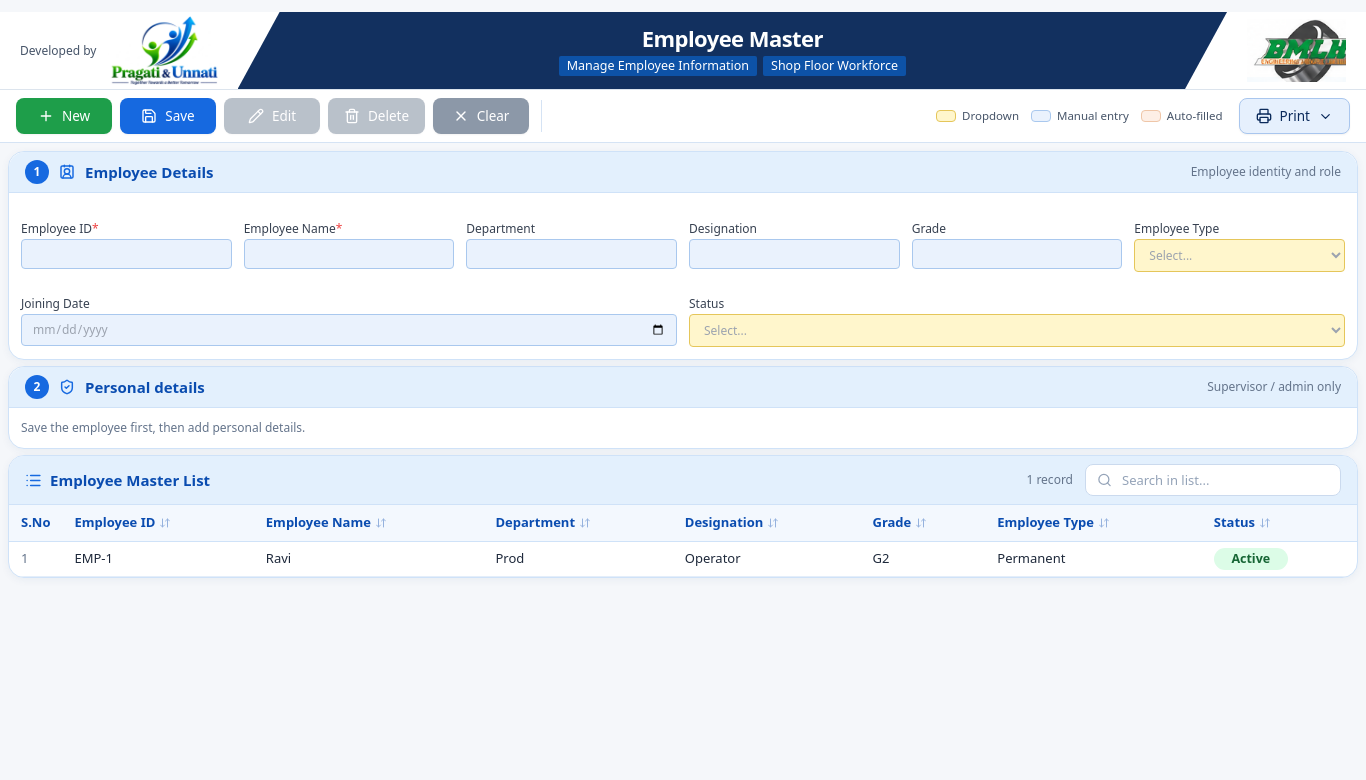
Scenario: Employee Master -- Personal details (059) › edit: Aadhaar input takes digits only (max 4); save = one upsert with cleaned values
The image size is (1366, 780).
Click the text "Ravi" at (279, 558), box x1=254 y1=541 x2=483 y2=577
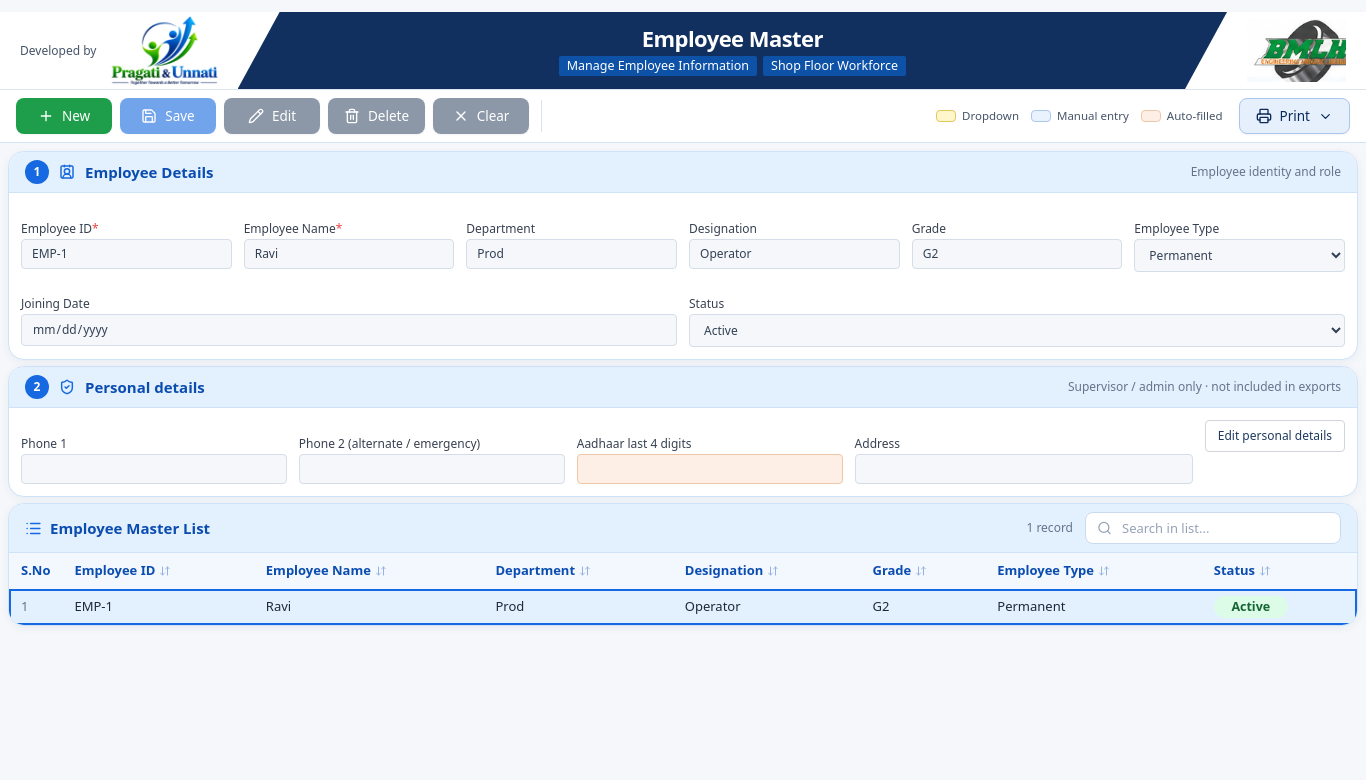
Click the button "Edit personal details" at (1275, 436), box x1=1205 y1=420 x2=1345 y2=452
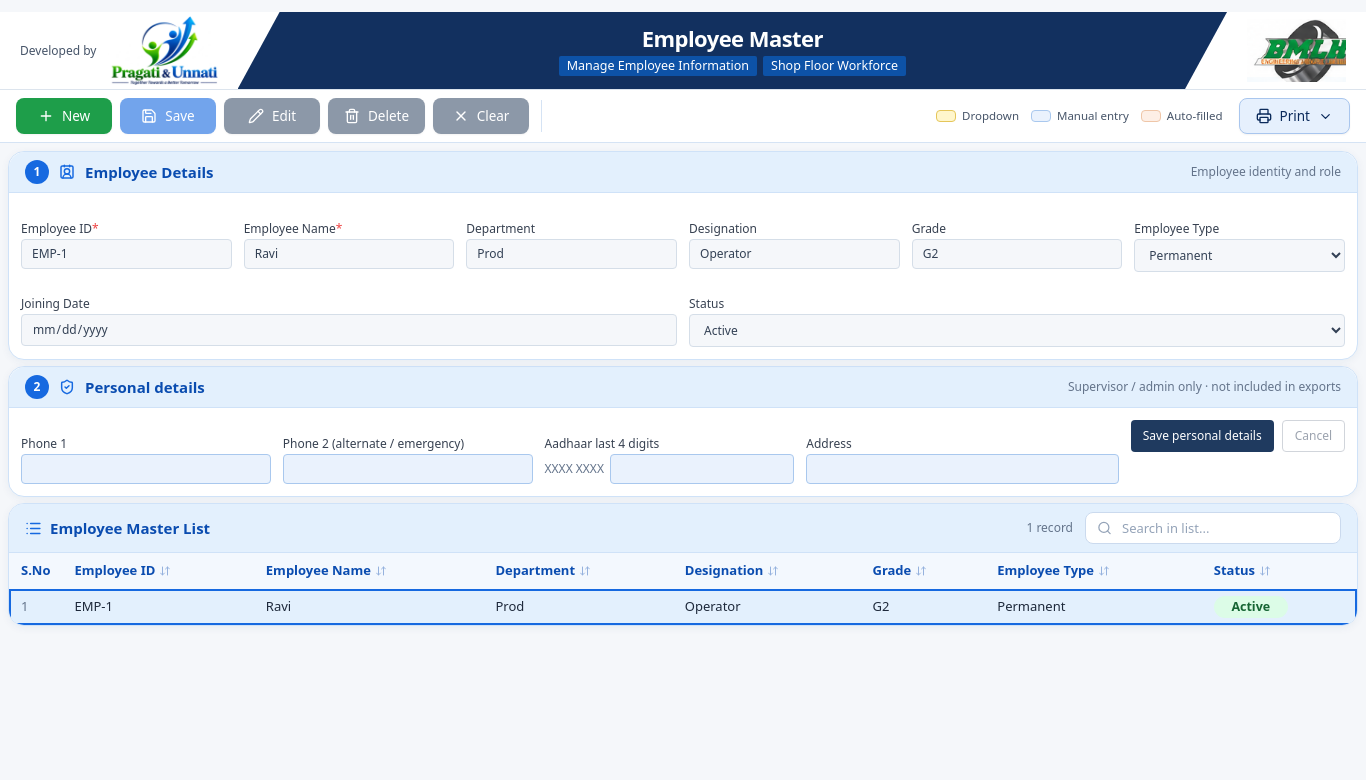
Now the text "XXXX XXXX" is shown, box x1=544 y1=461 x2=604 y2=477
Type "1a2b34567" into the field labelled "Aadhaar last 4" at (702, 469), box x1=610 y1=454 x2=794 y2=484
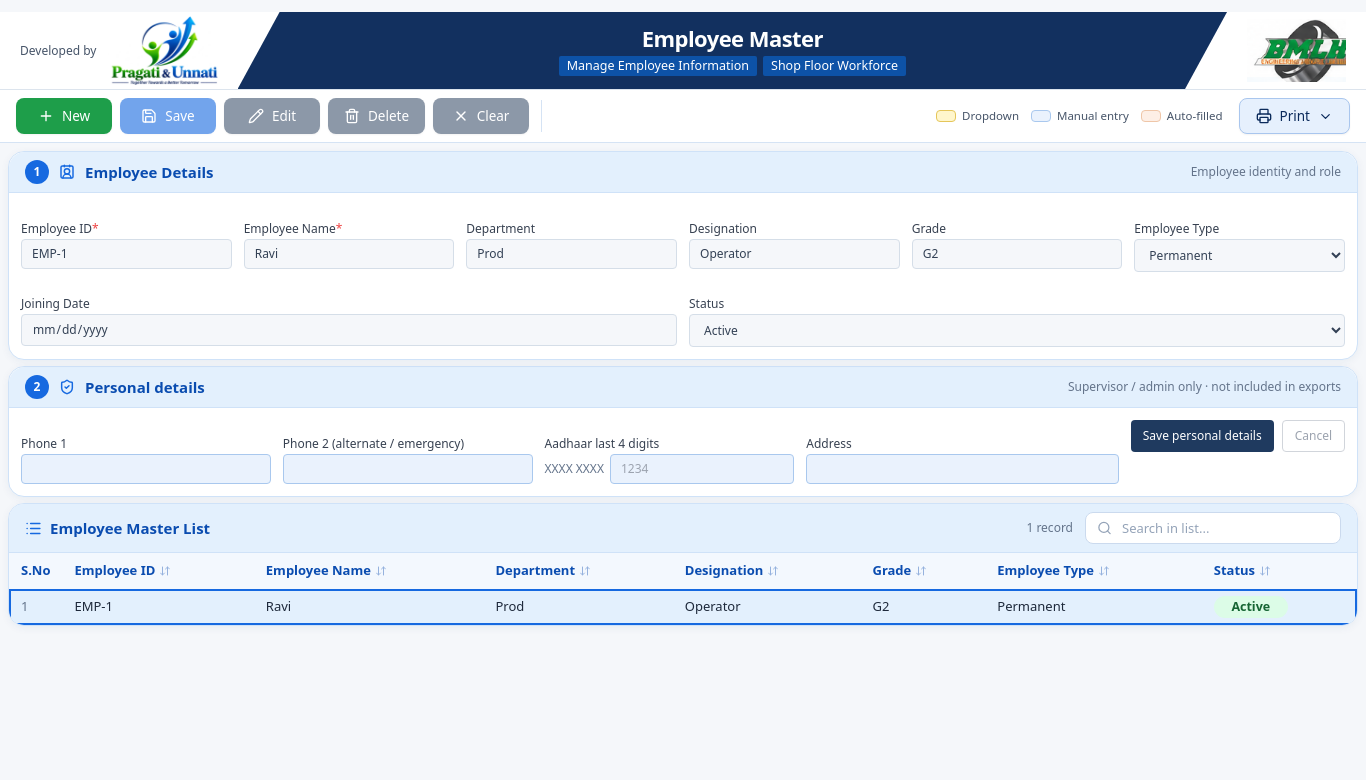
Now the field labelled "Aadhaar last 4" holds "1234", box x1=610 y1=454 x2=794 y2=484
Type "+91 98765-43210" into the field labelled "Phone 1" at (146, 469), box x1=21 y1=454 x2=271 y2=484
Type "080-2345 6789" into the field labelled "Phone 2" at (408, 469), box x1=283 y1=454 x2=533 y2=484
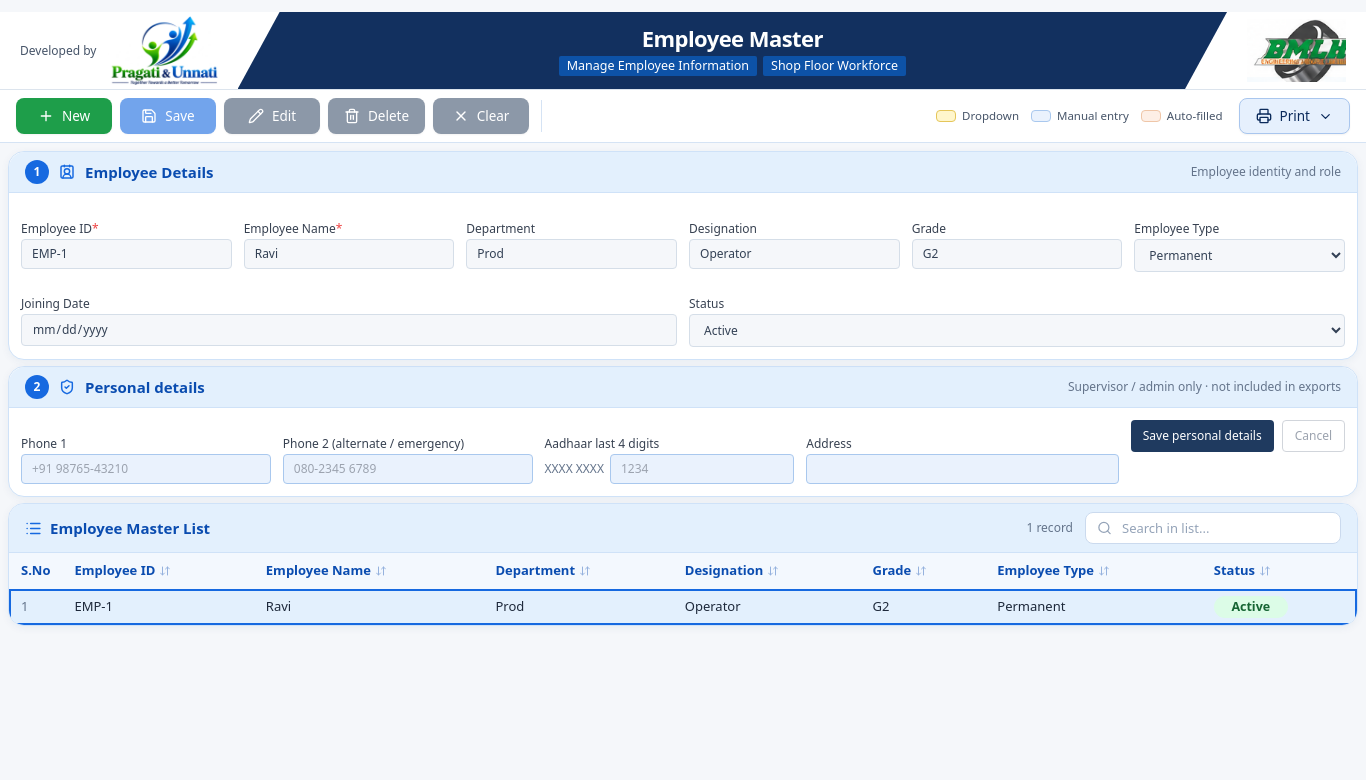
Type "  1 Main Rd " into the field labelled "Address" at (962, 469), box x1=806 y1=454 x2=1119 y2=484
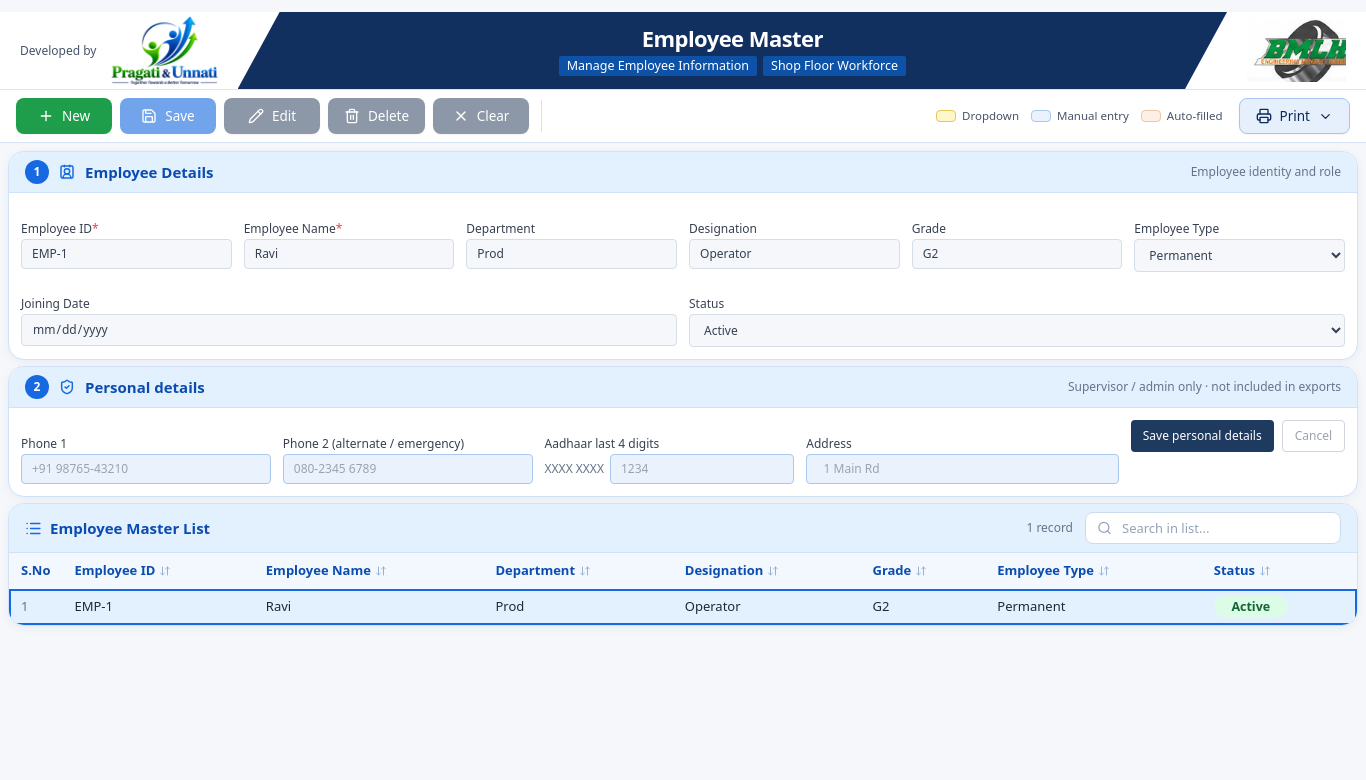
Click the button "Save personal details" at (1202, 436), box x1=1131 y1=420 x2=1274 y2=452
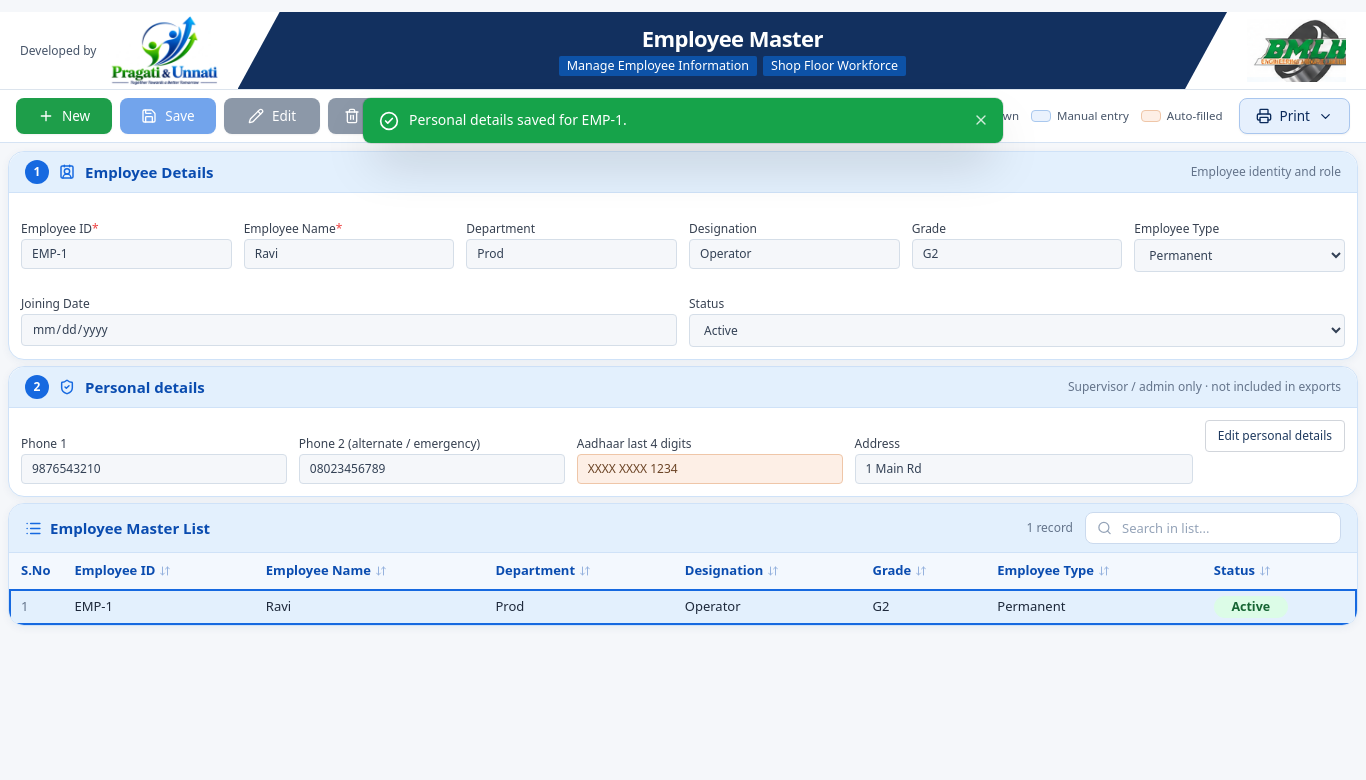
Now the text "Personal details saved for EMP-1." is shown, box x1=409 y1=110 x2=627 y2=129
Now the field labelled "Aadhaar" holds "XXXX XXXX 1234", box x1=577 y1=454 x2=843 y2=484
